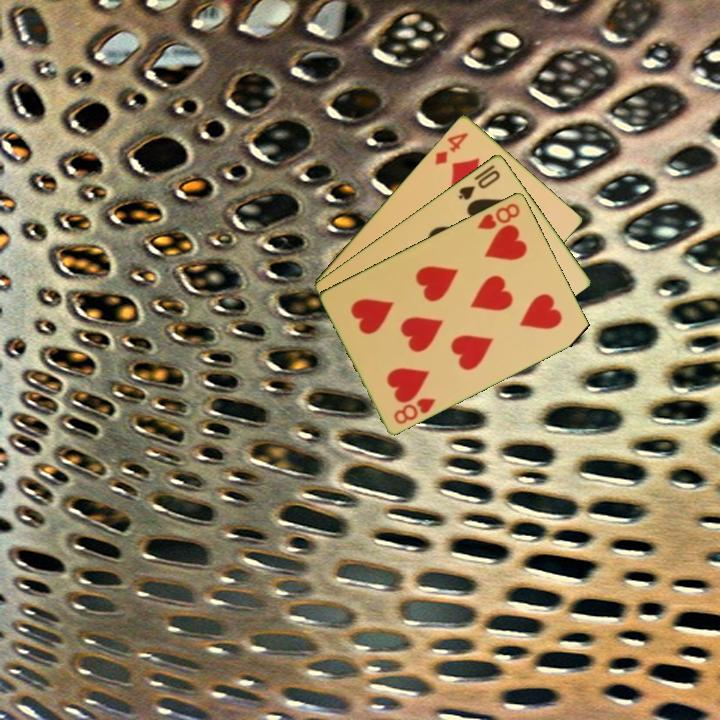10s: (455, 161, 503, 203)
4d: (431, 128, 472, 167)
8h: (474, 199, 523, 232), (390, 394, 439, 427)
